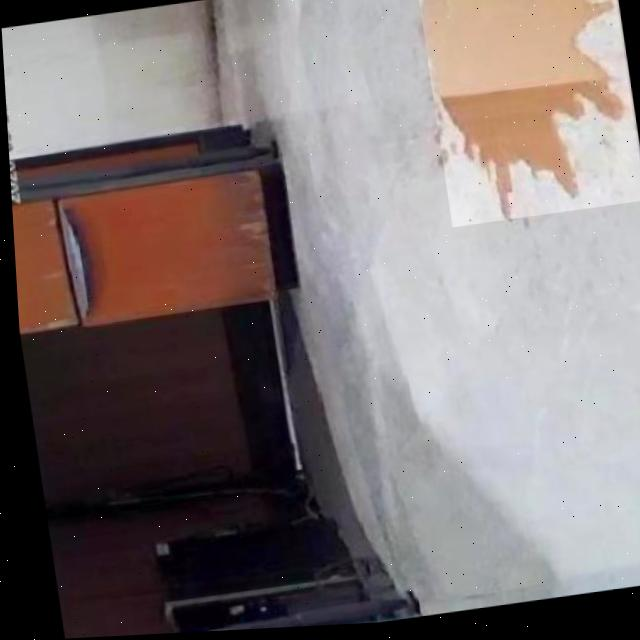spillage: (421, 0, 629, 223)
